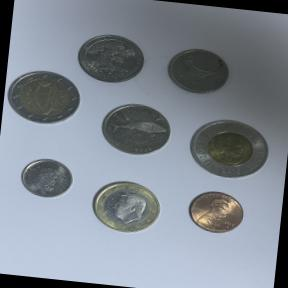coin: (179, 106, 279, 188), (82, 172, 170, 241), (94, 94, 178, 164), (3, 65, 85, 131), (70, 29, 150, 90), (179, 184, 251, 242), (14, 150, 79, 204)
